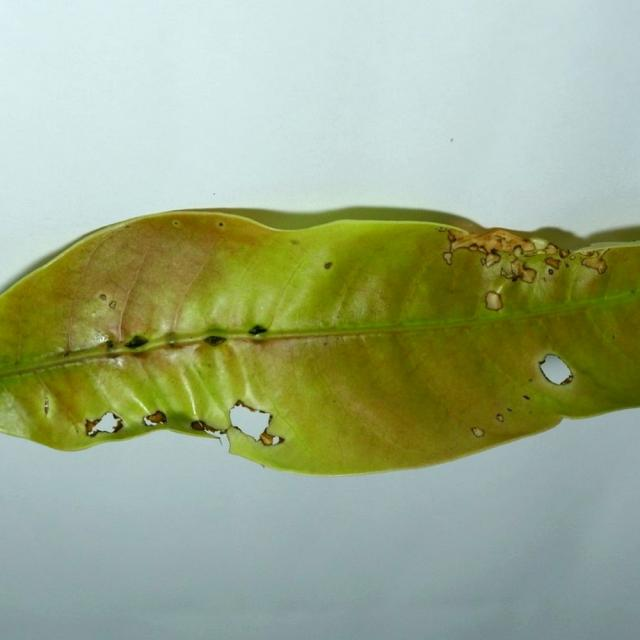Anthracnose: (539, 277, 639, 411), (24, 362, 103, 443), (176, 224, 272, 274), (573, 242, 639, 306), (252, 217, 444, 239), (449, 419, 549, 454), (476, 265, 533, 326), (52, 217, 150, 252), (402, 238, 445, 294), (119, 375, 160, 427), (224, 426, 275, 462), (185, 333, 291, 349), (181, 364, 204, 428), (515, 251, 561, 278), (573, 240, 638, 255), (160, 332, 182, 350), (232, 399, 259, 413), (0, 350, 16, 371), (528, 238, 551, 252), (500, 264, 516, 282), (203, 335, 227, 347), (129, 347, 152, 359), (484, 252, 501, 267), (110, 355, 127, 369), (376, 287, 387, 308), (98, 336, 113, 351), (245, 322, 265, 333), (471, 427, 484, 438), (512, 245, 524, 256), (561, 375, 573, 385), (216, 433, 225, 446), (44, 397, 50, 415), (583, 250, 598, 257), (538, 358, 547, 367), (108, 300, 117, 309), (495, 413, 504, 422), (324, 261, 333, 270), (289, 239, 300, 246), (99, 293, 107, 301), (172, 220, 181, 227), (480, 257, 486, 267), (569, 253, 577, 260), (63, 350, 71, 357), (523, 394, 530, 400), (91, 310, 97, 316), (506, 407, 513, 412), (218, 222, 224, 227), (125, 224, 131, 228), (612, 335, 616, 340), (528, 378, 533, 382)
Mango: (0, 209, 639, 479)
